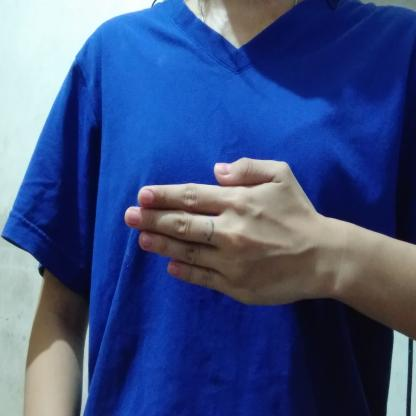ready: (122, 153, 361, 311)
